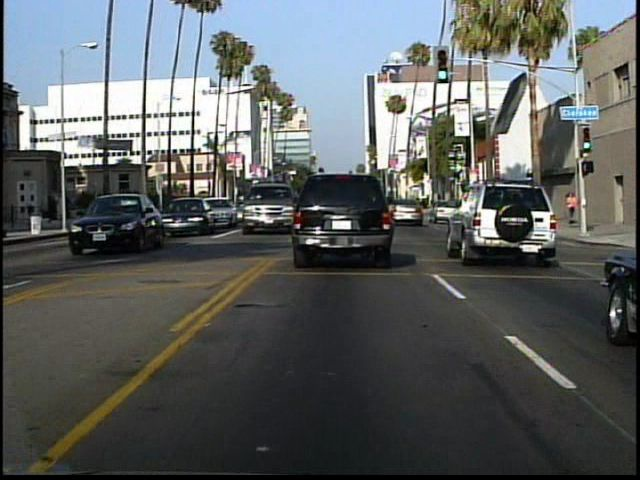person: (564, 187, 579, 224)
